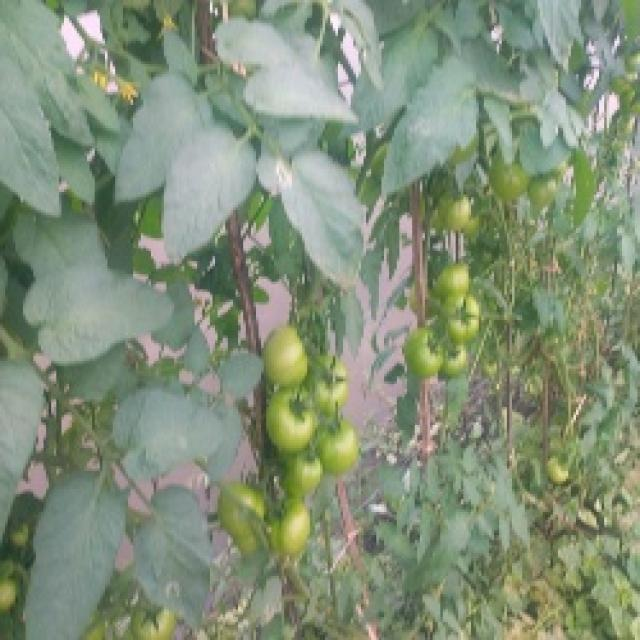tomato: (216, 480, 271, 557), (259, 326, 311, 386), (266, 384, 310, 452), (310, 411, 357, 472), (480, 153, 526, 209), (401, 328, 451, 378), (310, 350, 353, 407), (274, 454, 331, 497), (269, 495, 308, 554), (433, 287, 478, 337), (133, 592, 177, 640), (433, 191, 474, 239), (540, 451, 577, 489), (433, 265, 469, 298), (523, 174, 553, 209), (440, 345, 475, 372), (1, 577, 19, 613)
